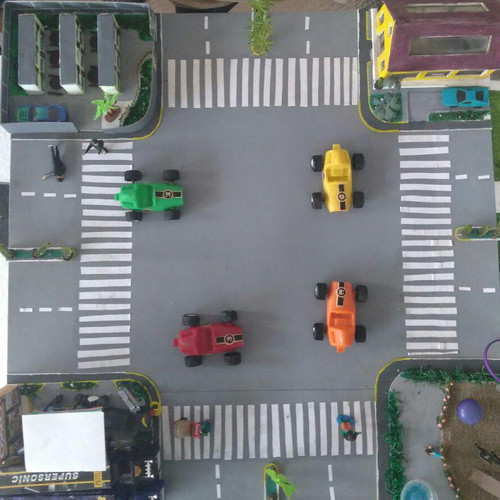amarillo: (311, 143, 368, 213)
naranja: (314, 280, 366, 347)
rojo: (172, 311, 245, 365)
verde: (114, 170, 186, 222)
